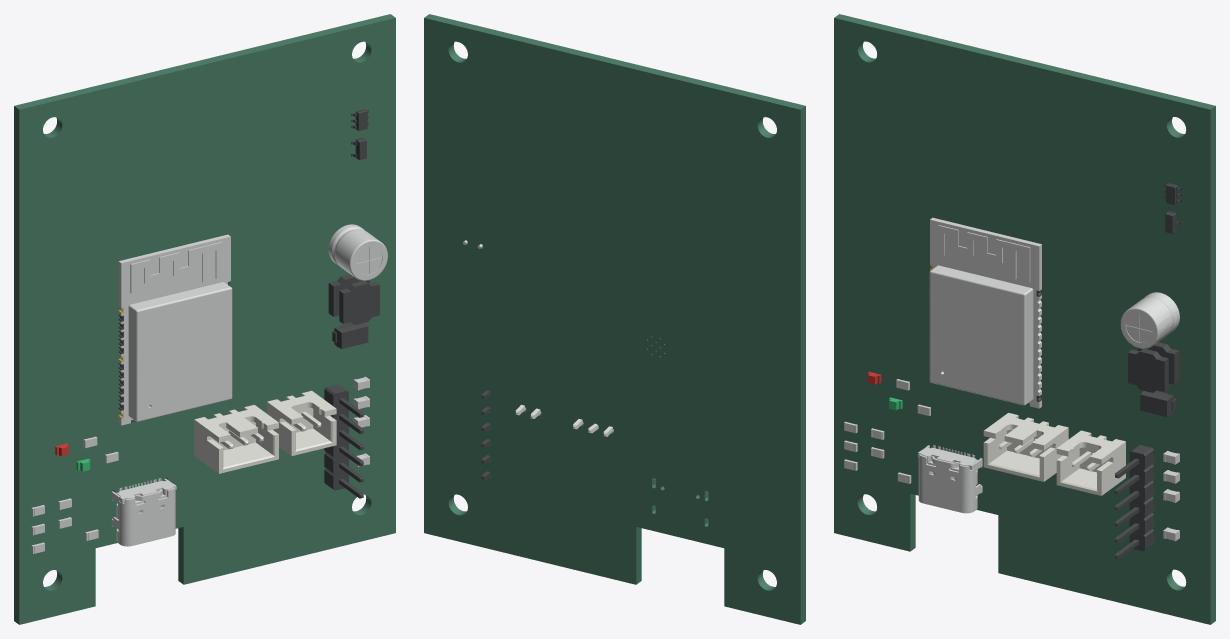
File: board-a-cost-down.glb
3 renders of one model, left to right at view 1: azimuth 30°, elevation 25°; view 2: azimuth 150°, elevation 25°; view 3: azimuth 330°, elevation 25°, orthographic.
Parts seen in each view (by area): view 1: SmartWateringFlowerPot_PCB 111, ESP32-S3-WROOM-1 45, ESP32-S3-WROOM-1 44, JST_XH_B3B-XH-A_1x03_P2.50mm_Vertical 101, JST_XH_B2B-XH-A_1x02_P2.50mm_Vertical 41, PinHeader_1x06_P2.54mm_Vertical 95, CP_Radial_D6.3mm_P2.50mm 109, L_Bourns_SRN6045TA 98, USB_C_Receptacle_GCT_USB4105-xx-A_16P_TopMnt_Horizontal 37, ESP32-S3-WROOM-1 43, USB_C_Receptacle_GCT_USB4105-xx-A_16P_TopMnt_Horizontal 19, D_SMA 39; view 2: SmartWateringFlowerPot_PCB 111; view 3: SmartWateringFlowerPot_PCB 111, ESP32-S3-WROOM-1 45, ESP32-S3-WROOM-1 44, JST_XH_B3B-XH-A_1x03_P2.50mm_Vertical 101, JST_XH_B2B-XH-A_1x02_P2.50mm_Vertical 41, PinHeader_1x06_P2.54mm_Vertical 95, CP_Radial_D6.3mm_P2.50mm 109, L_Bourns_SRN6045TA 98, USB_C_Receptacle_GCT_USB4105-xx-A_16P_TopMnt_Horizontal 19, ESP32-S3-WROOM-1 43, USB_C_Receptacle_GCT_USB4105-xx-A_16P_TopMnt_Horizontal 37, D_SMA 39.
Part boxes in pixels (left/top/right/bottom): SmartWateringFlowerPot_PCB 111: left=14, top=14, right=395, bottom=624; ESP32-S3-WROOM-1 45: left=128, top=282, right=232, bottom=422; ESP32-S3-WROOM-1 44: left=118, top=234, right=230, bottom=425; JST_XH_B3B-XH-A_1x03_P2.50mm_Vertical 101: left=194, top=404, right=278, bottom=473; JST_XH_B2B-XH-A_1x02_P2.50mm_Vertical 41: left=267, top=390, right=336, bottom=456; PinHeader_1x06_P2.54mm_Vertical 95: left=324, top=384, right=363, bottom=498; CP_Radial_D6.3mm_P2.50mm 109: left=328, top=224, right=387, bottom=280; L_Bourns_SRN6045TA 98: left=328, top=274, right=379, bottom=324; USB_C_Receptacle_GCT_USB4105-xx-A_16P_TopMnt_Horizontal 37: left=111, top=491, right=151, bottom=546; ESP32-S3-WROOM-1 43: left=130, top=242, right=222, bottom=293; USB_C_Receptacle_GCT_USB4105-xx-A_16P_TopMnt_Horizontal 19: left=151, top=478, right=175, bottom=540; D_SMA 39: left=332, top=323, right=368, bottom=348; SmartWateringFlowerPot_PCB 111: left=424, top=14, right=805, bottom=624; SmartWateringFlowerPot_PCB 111: left=834, top=14, right=1215, bottom=624; ESP32-S3-WROOM-1 45: left=929, top=265, right=1033, bottom=405; ESP32-S3-WROOM-1 44: left=930, top=217, right=1041, bottom=408; JST_XH_B3B-XH-A_1x03_P2.50mm_Vertical 101: left=983, top=413, right=1068, bottom=481; JST_XH_B2B-XH-A_1x02_P2.50mm_Vertical 41: left=1056, top=430, right=1125, bottom=495; PinHeader_1x06_P2.54mm_Vertical 95: left=1115, top=445, right=1153, bottom=559; CP_Radial_D6.3mm_P2.50mm 109: left=1120, top=292, right=1179, bottom=348; L_Bourns_SRN6045TA 98: left=1128, top=342, right=1179, bottom=392; USB_C_Receptacle_GCT_USB4105-xx-A_16P_TopMnt_Horizontal 19: left=942, top=458, right=982, bottom=513; ESP32-S3-WROOM-1 43: left=938, top=225, right=1030, bottom=282; USB_C_Receptacle_GCT_USB4105-xx-A_16P_TopMnt_Horizontal 37: left=918, top=445, right=943, bottom=507; D_SMA 39: left=1140, top=390, right=1176, bottom=416.
Size of the model in its own units: 61.89 by 80.94 by 11.94.
